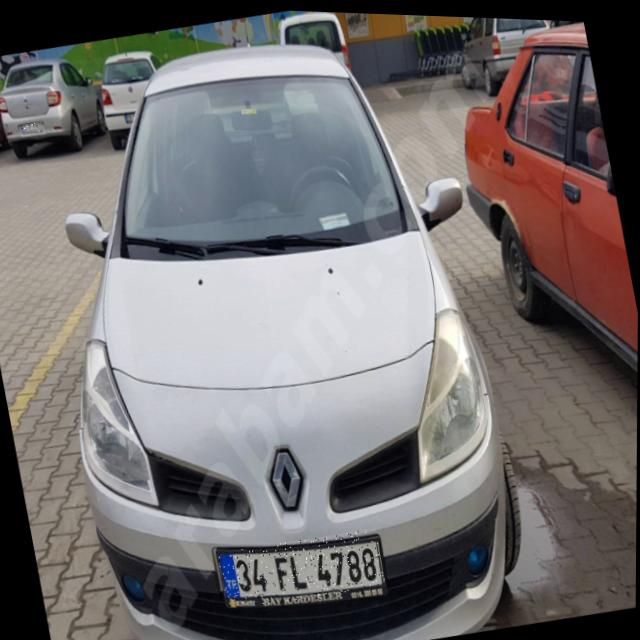license_plate: (216, 520, 387, 613), (21, 121, 44, 134)
